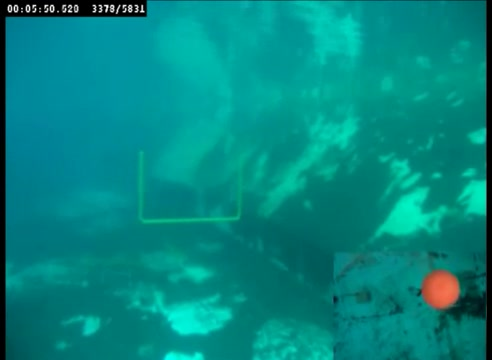channel: (135, 150, 246, 228)
